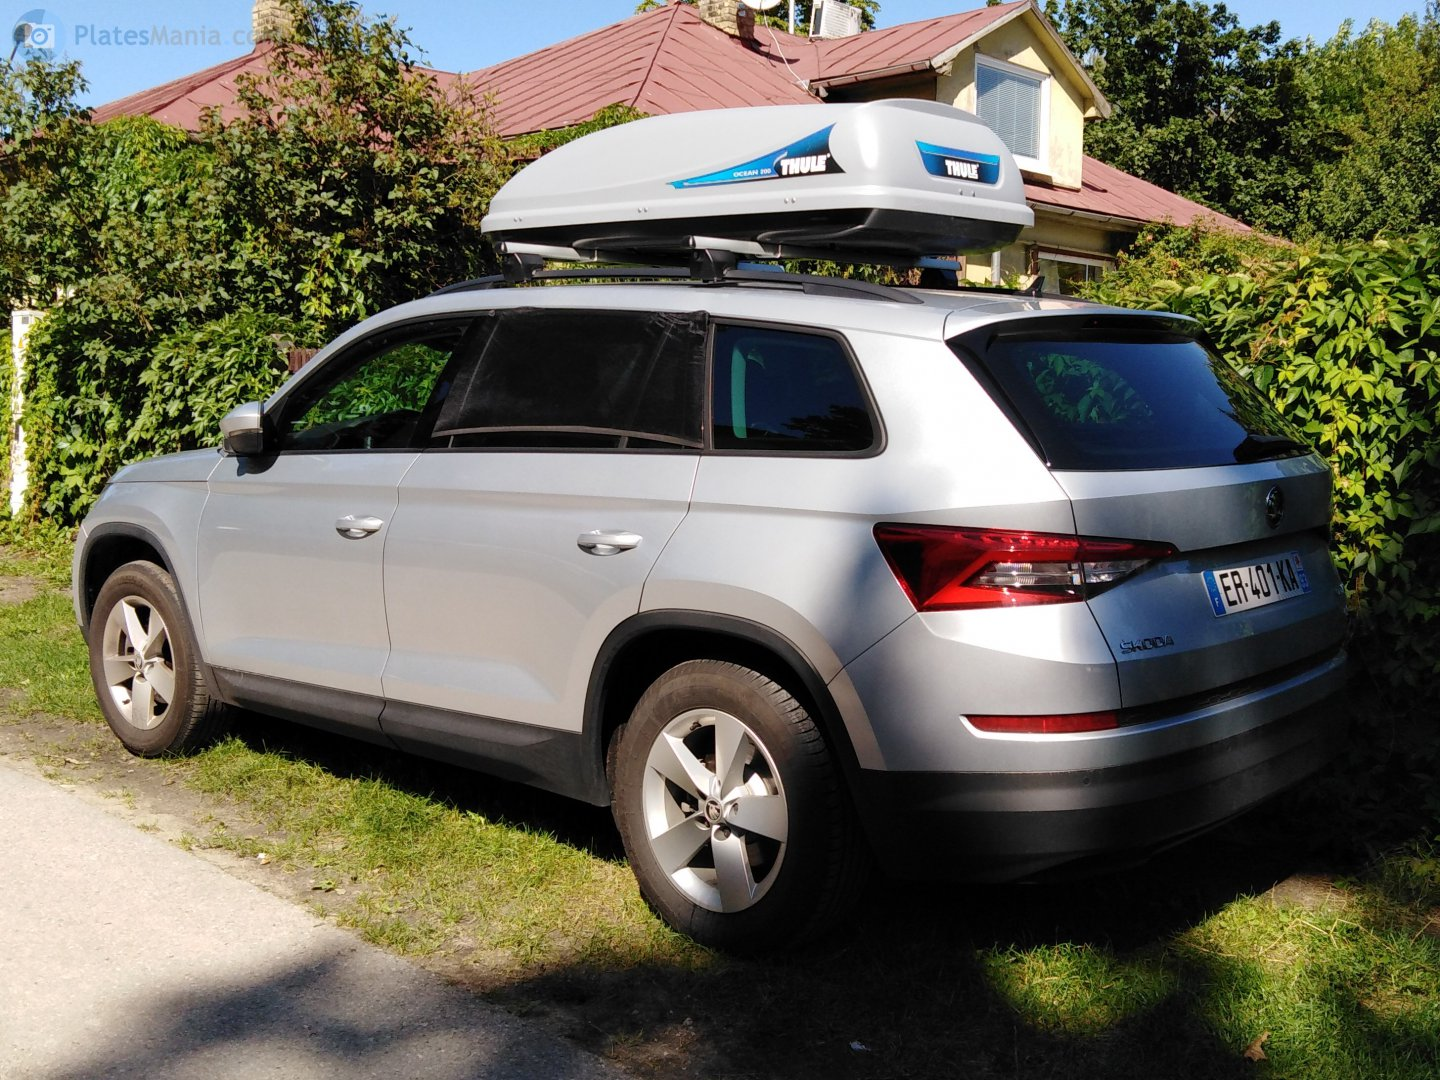licence plate: (1194, 544, 1316, 622)
